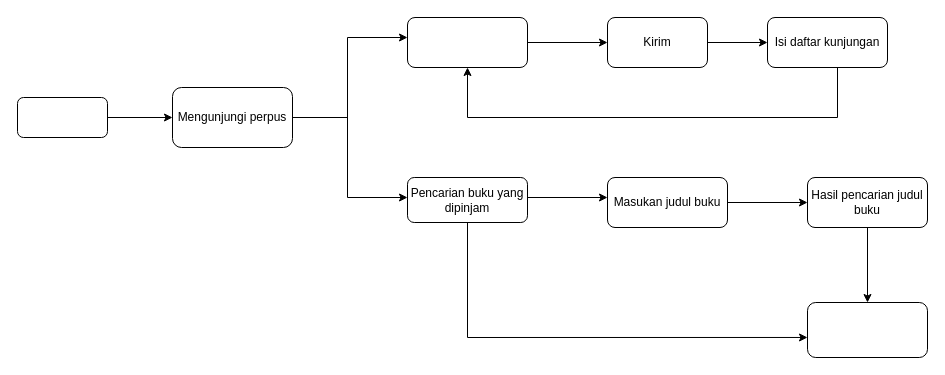
Some shapes in this 945 by 375 pixel diagram are drawn without their labels. The shapes that lost their labels are listed below. From the top down, each one's centre as x and y in pixels, then its label:
At pixel 467 42: "Isi form pengunjung".
At pixel 62 117: "User".
At pixel 867 330: "Rincian buku yang dipinjam".
